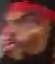ryu: (0, 0, 49, 59)
